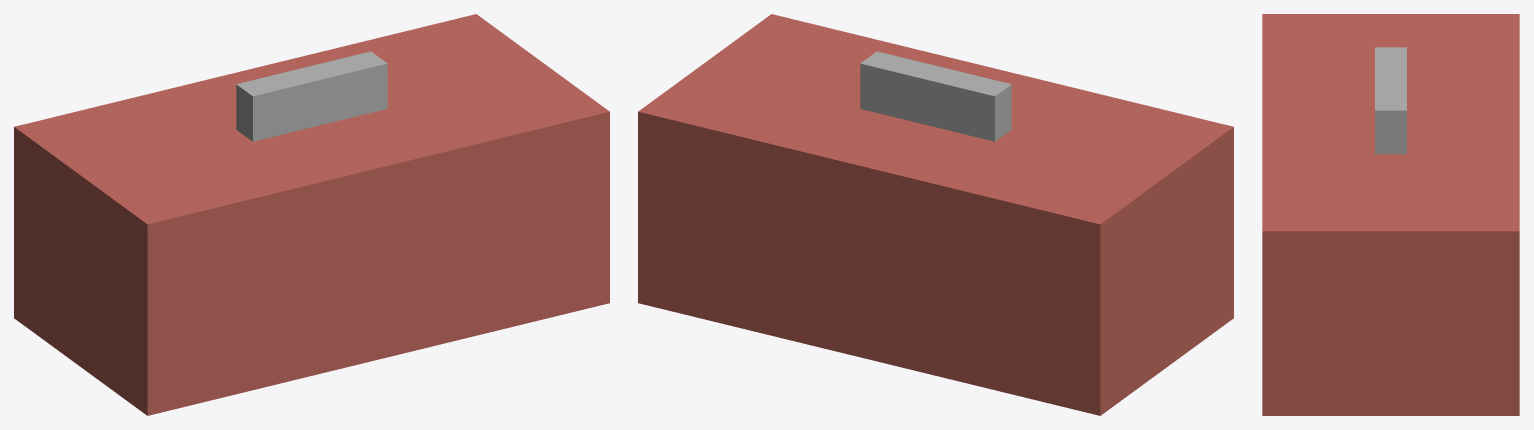
Rendered from toolbox.glb.
The picture shows the model from 3 angles, left to right: view 1: azimuth 30°, elevation 25°; view 2: azimuth 150°, elevation 25°; view 3: azimuth 270°, elevation 25°; orthographic projection. The views are drawn at different scales.
Parts seen in each view (by area): view 1: NC_toolbox; view 2: NC_toolbox; view 3: NC_toolbox.
Part boxes in pixels (x1,y1,x2,y2): NC_toolbox: [14, 14, 609, 415]; NC_toolbox: [638, 14, 1233, 415]; NC_toolbox: [1262, 14, 1519, 415].
Bounding box in the file's own units: 0.48 × 0.235 × 0.24.
